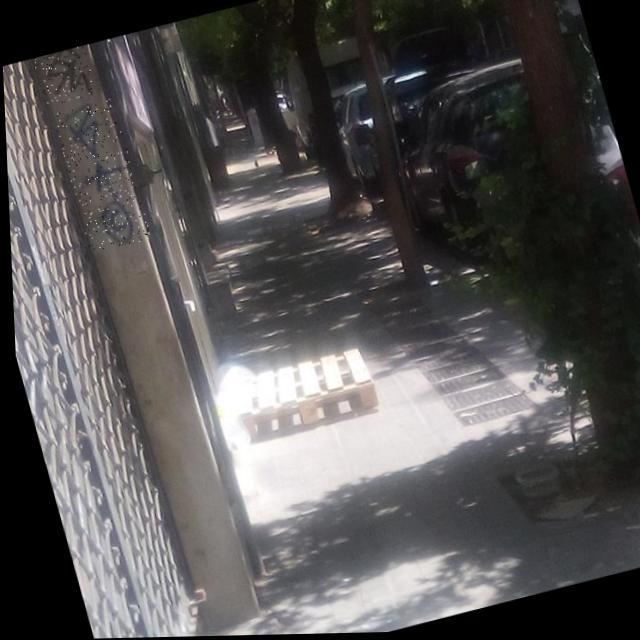-: (49, 97, 149, 255), (31, 45, 96, 107)
